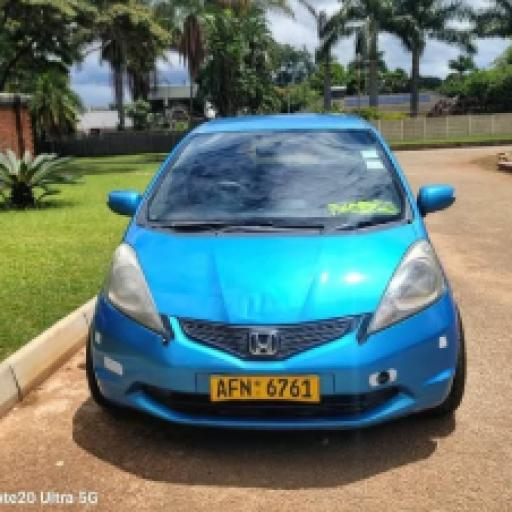number-plates: (209, 372, 325, 402)
